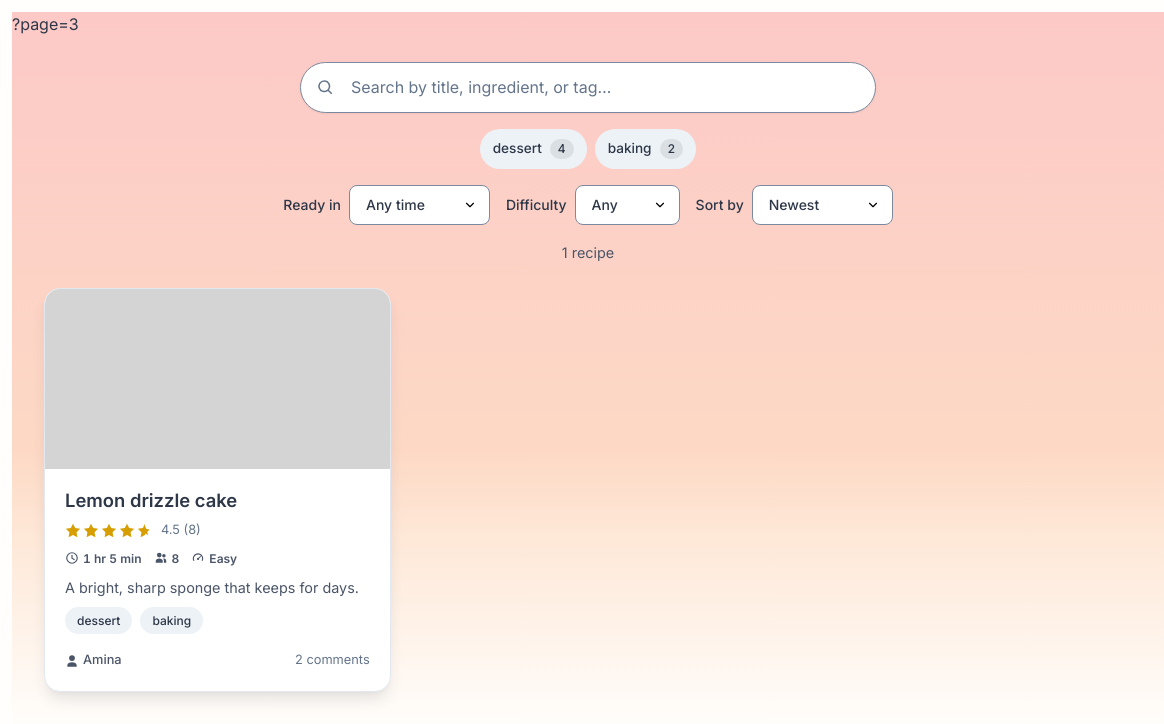
Test: HomePage URL state › still returns to page 1 when a filter genuinely changes
This screenshot has width=1164, height=724.
Expected: the text with test id "search" shows "page=3", top-left (12, 14), bottom-right (79, 34)
Type "cake" into the search field named "search recipes" at [588, 87], box top-left (300, 62), bottom-right (876, 113)
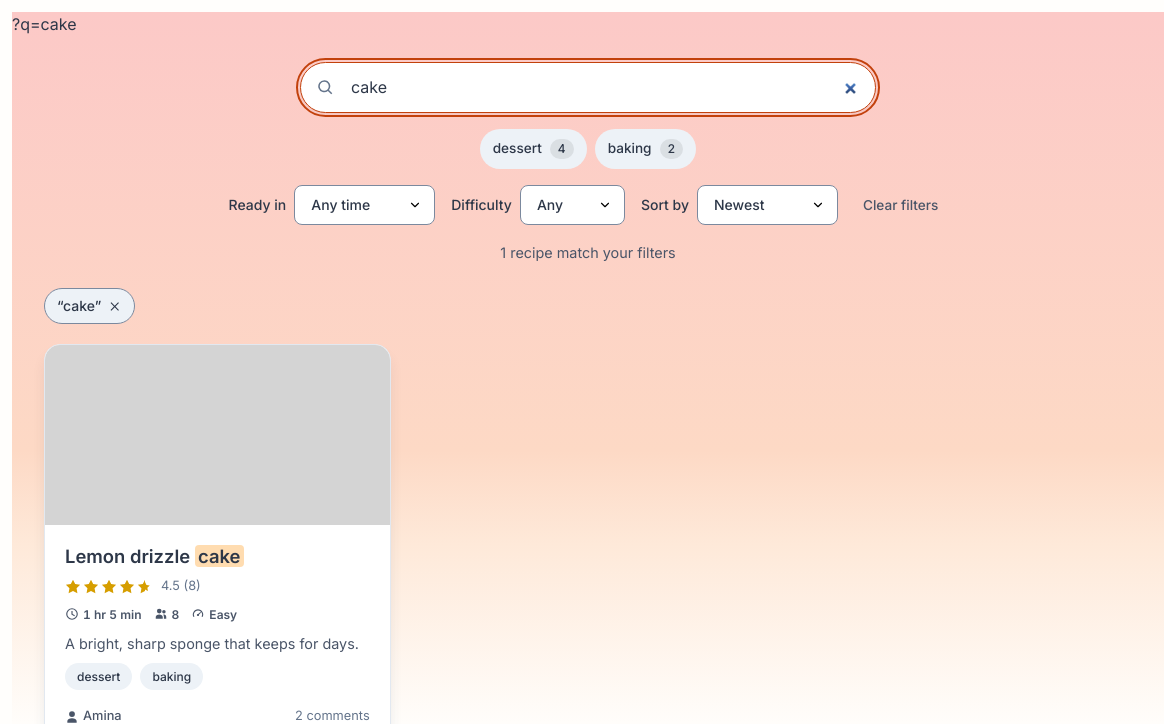
Result: the text with test id "search" shows "q=cake" at top-left (12, 14), bottom-right (77, 34)
Result: the text with test id "search" no longer shows "page=3"
